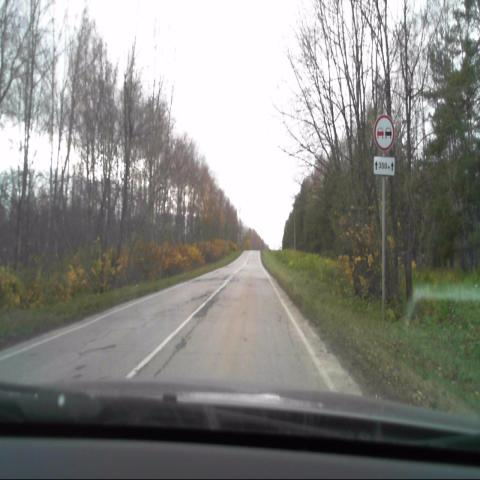3_20: (373, 115, 395, 152)
8_2_1: (372, 156, 396, 176)
